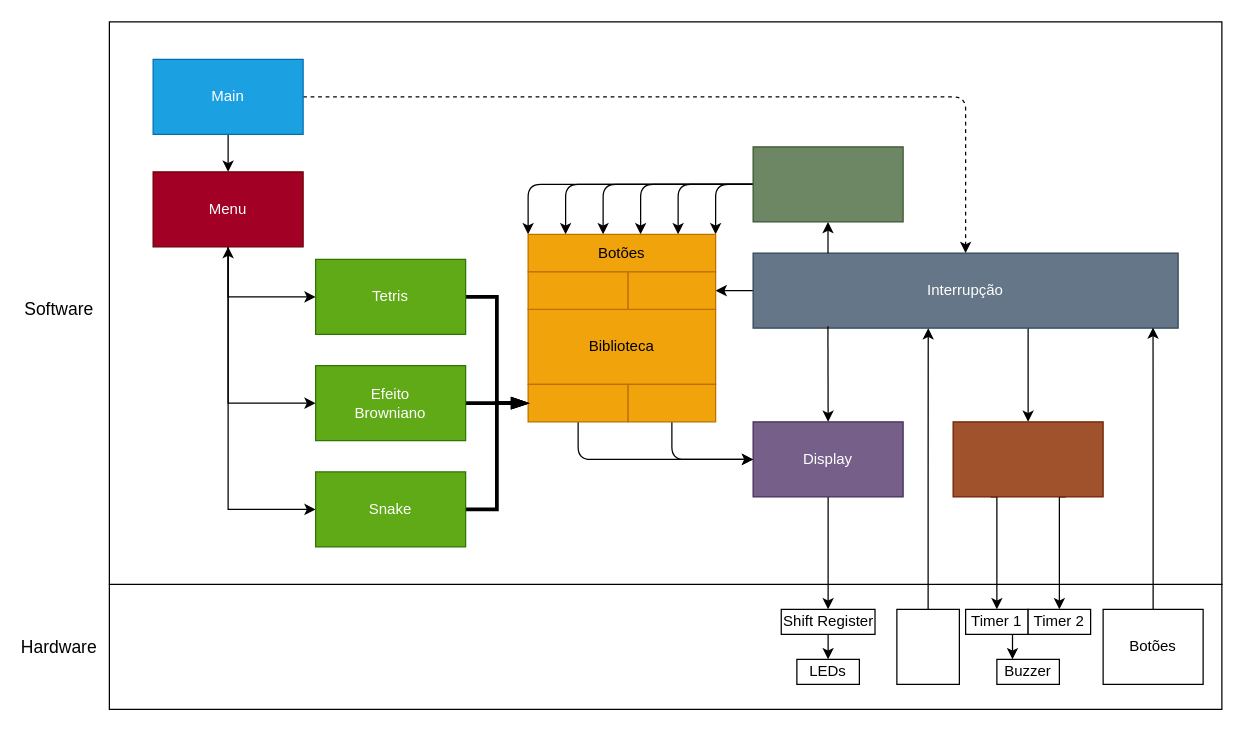
Image size: 1244x731. Some labels were removed from this diagram. Here are the shapes that lost their labels. From the top down, the box of each, then its label:
(752, 146, 903, 222): Input
(527, 271, 628, 309): 1 Hz
(627, 271, 716, 309): 20 ms
(527, 383, 628, 422): Matrix
(627, 383, 716, 422): Vector
(952, 421, 1103, 497): Musica
(896, 608, 959, 684): Timer 0 20 ms
